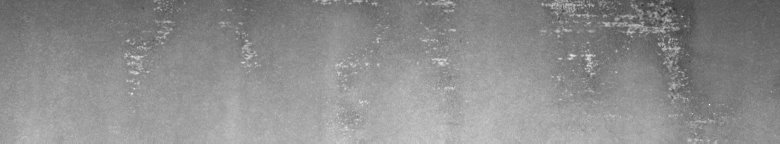hc: (541, 4, 724, 128)
